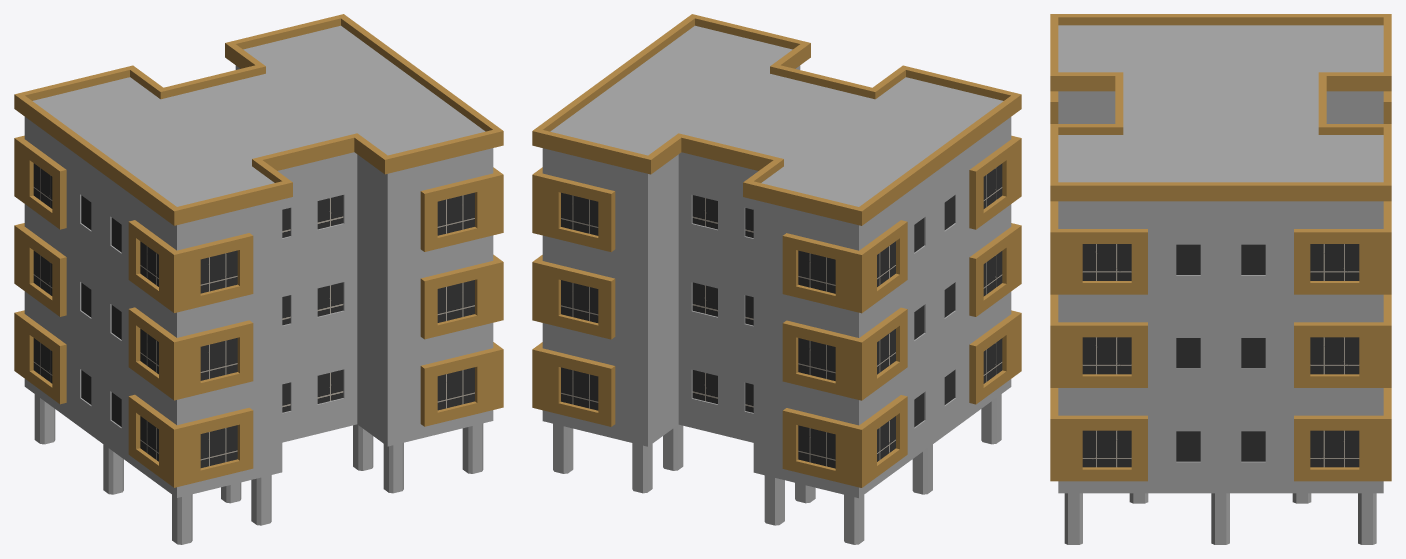
Rendered from spw-urban-bldg-apartment-02.glb.
The picture shows the model from 3 angles, left to right: view 1: azimuth 30°, elevation 25°; view 2: azimuth 150°, elevation 25°; view 3: azimuth 270°, elevation 25°; orthographic projection. The views are drawn at different scales.
Parts seen in each view (by area): view 1: SPW_Urban_Bldg_Apartment_02; view 2: SPW_Urban_Bldg_Apartment_02; view 3: SPW_Urban_Bldg_Apartment_02.
Part boxes in pixels (x1,y1,x2,y2): SPW_Urban_Bldg_Apartment_02: (14, 14, 503, 544); SPW_Urban_Bldg_Apartment_02: (532, 14, 1021, 544); SPW_Urban_Bldg_Apartment_02: (1050, 14, 1391, 544).
Size of the model in its own units: 22.5 by 22.33 by 18.9.
1 material, 1 textured.
